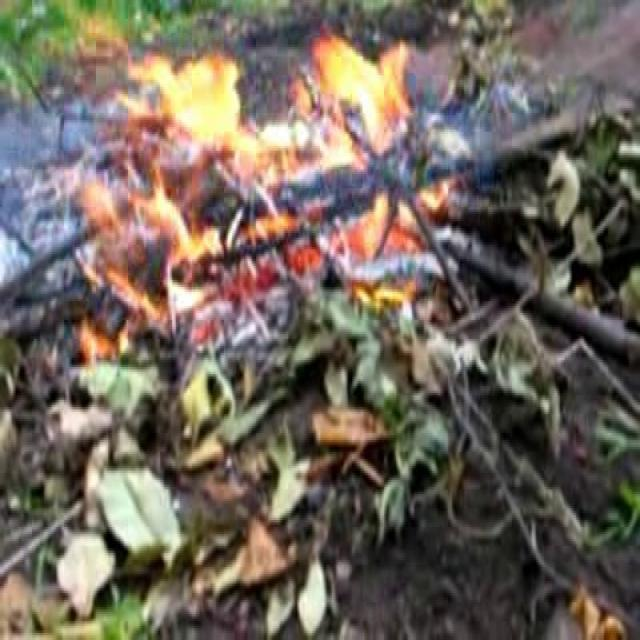Fire: (111, 58, 442, 274)
